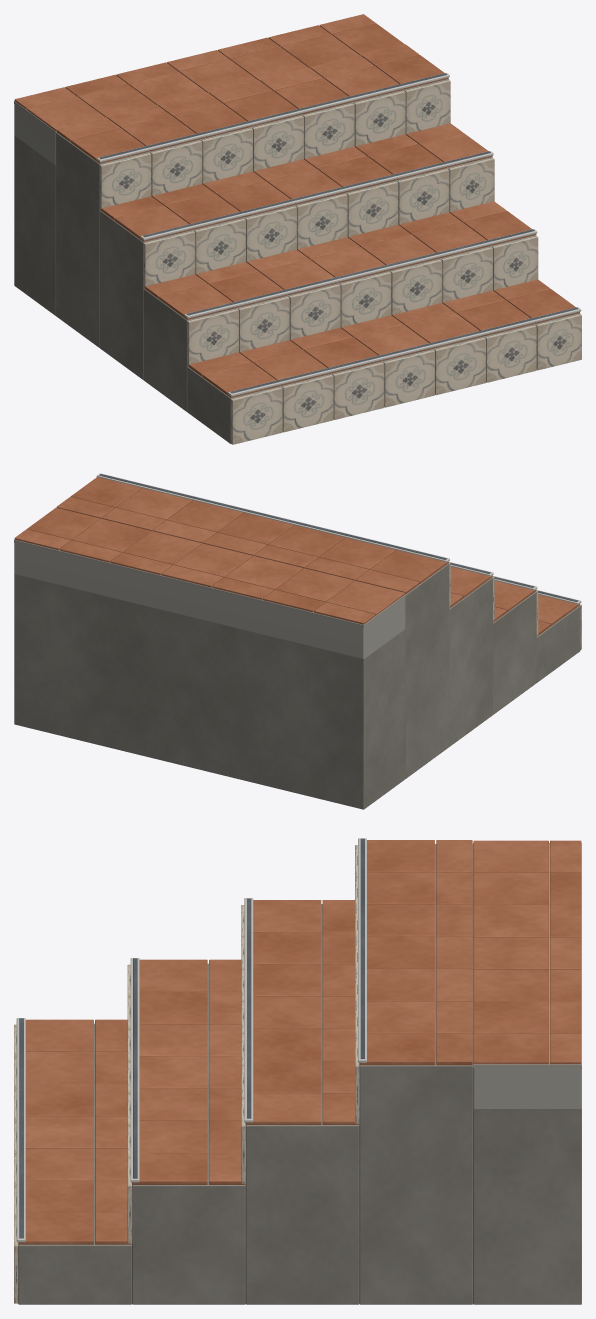
File: spanish-tile-staircase-renovation.glb
3 renders of one model, top to bottom at view 1: azimuth 30°, elevation 25°; view 2: azimuth 150°, elevation 25°; view 3: azimuth 270°, elevation 25°, orthographic. The views are drawn at different scales.
Parts seen in each view (by area): view 1: Patterned porcelain risers, Terracotta treads, Cementitious stair substrate, Landing · tile, Landing substrate, Aluminium edge nosing, Textured insert in nosing, Landing · foundation; view 2: Landing substrate, Cementitious stair substrate, Terracotta treads, Landing · tile, Landing · foundation, Aluminium edge nosing, Landing · joints, Textured insert in nosing; view 3: Terracotta treads, Cementitious stair substrate, Landing · tile, Landing substrate, Aluminium edge nosing, Landing · foundation, Textured insert in nosing, Patterned porcelain risers, Landing · joints.
Boxes of the visible parts, x1=… form: Patterned porcelain risers: x1=99, y1=80, x2=581, y2=444; Terracotta treads: x1=56, y1=44, x2=579, y2=397; Cementitious stair substrate: x1=56, y1=79, x2=580, y2=443; Landing · tile: x1=14, y1=14, x2=404, y2=131; Landing substrate: x1=14, y1=135, x2=55, y2=315; Aluminium edge nosing: x1=96, y1=73, x2=581, y2=396; Textured insert in nosing: x1=99, y1=73, x2=578, y2=393; Landing · foundation: x1=14, y1=104, x2=55, y2=164; Landing substrate: x1=14, y1=573, x2=405, y2=809; Cementitious stair substrate: x1=405, y1=563, x2=580, y2=778; Terracotta treads: x1=56, y1=477, x2=579, y2=636; Landing · tile: x1=14, y1=507, x2=404, y2=624; Landing · foundation: x1=14, y1=542, x2=405, y2=658; Aluminium edge nosing: x1=96, y1=473, x2=581, y2=604; Landing · joints: x1=14, y1=539, x2=405, y2=627; Textured insert in nosing: x1=99, y1=474, x2=578, y2=601; Terracotta treads: x1=19, y1=840, x2=472, y2=1244; Cementitious stair substrate: x1=18, y1=844, x2=472, y2=1304; Landing · tile: x1=473, y1=840, x2=581, y2=1064; Landing substrate: x1=473, y1=1108, x2=581, y2=1304; Aluminium edge nosing: x1=16, y1=838, x2=366, y2=1242; Landing · foundation: x1=473, y1=1067, x2=581, y2=1108; Textured insert in nosing: x1=19, y1=838, x2=364, y2=1238; Patterned porcelain risers: x1=14, y1=845, x2=359, y2=1303; Landing · joints: x1=473, y1=842, x2=581, y2=1068.
Bounding box in the file's own units: 1.4 × 0.722 × 1.51.
Materials: 7 (4 with a texture image).
